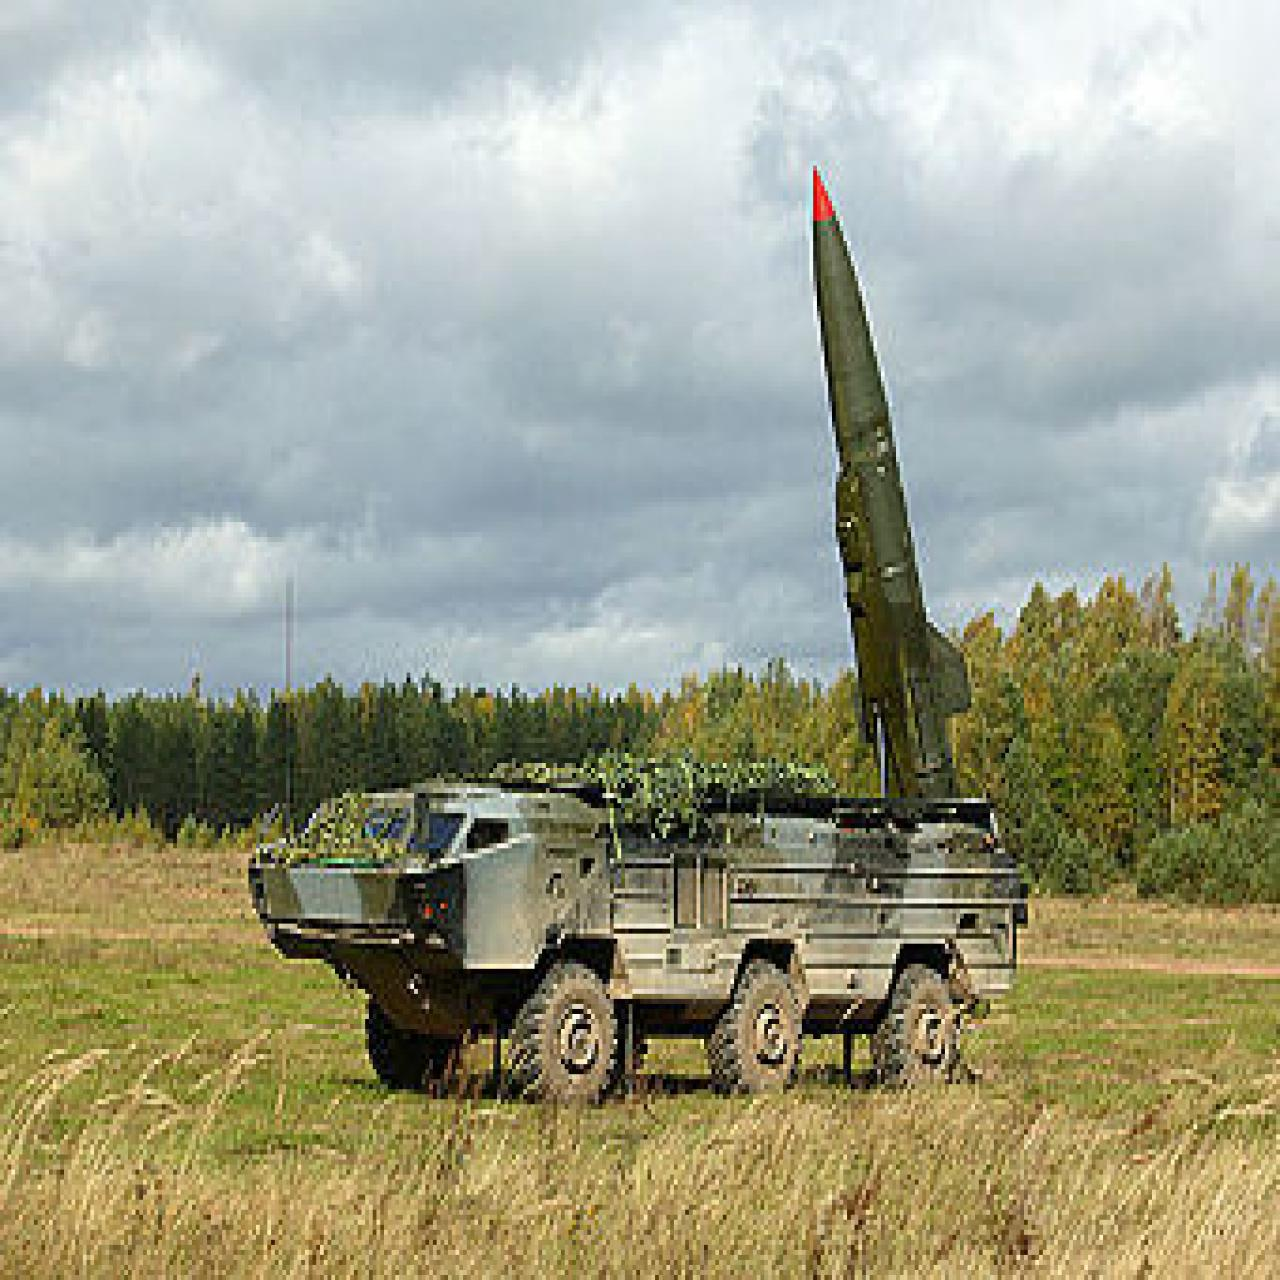MIL_Veh: (267, 165, 1015, 1095)
